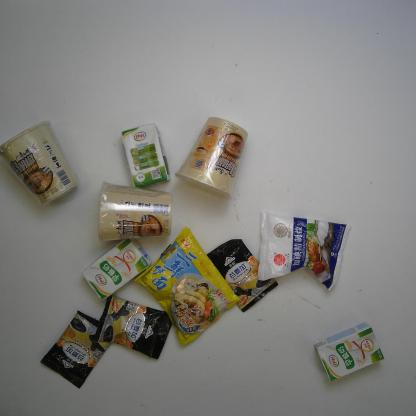Instant Drink: (205, 233, 279, 312), (41, 308, 114, 387), (98, 296, 172, 359)
Instant Noodles: (137, 224, 239, 350), (0, 118, 81, 207), (174, 115, 250, 199), (96, 179, 175, 244)
Milk: (316, 318, 387, 388), (82, 237, 150, 299), (117, 124, 172, 188)
Seasoner: (250, 208, 354, 294)
